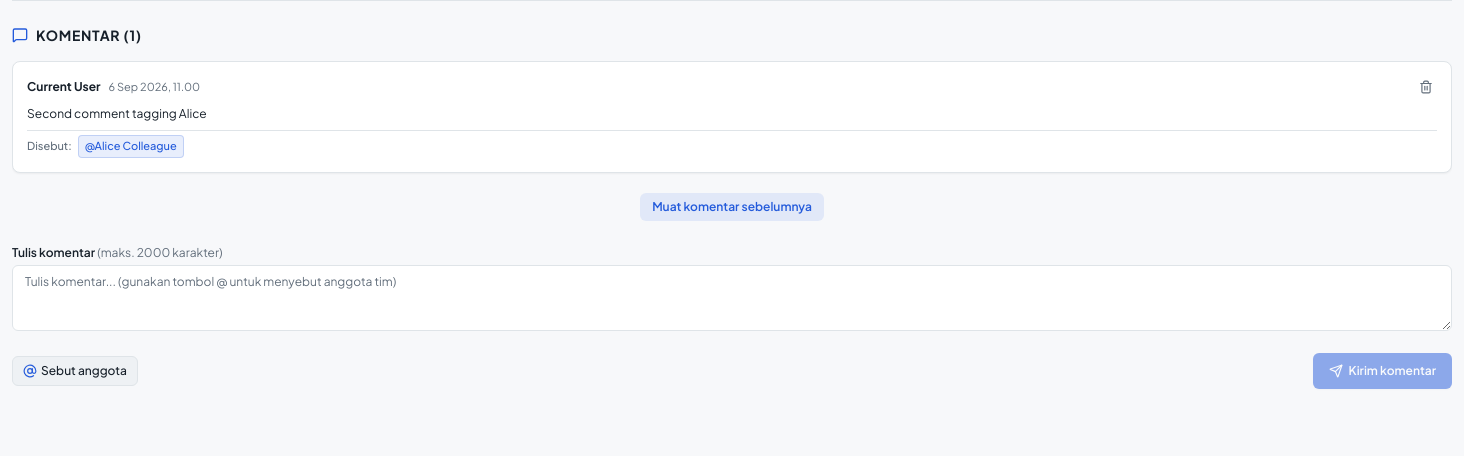
Test: Phase 10 Task 9 — Task Comments & Structured Mentions UX › supports pagination / loading earlier comments without duplicating items
The image size is (1464, 456).
Expected: the text "Second comment tagging Alice" is shown, [27, 106, 207, 121]
Click the button "Muat komentar sebelumnya".
click(732, 206)  # box [640, 192, 824, 220]
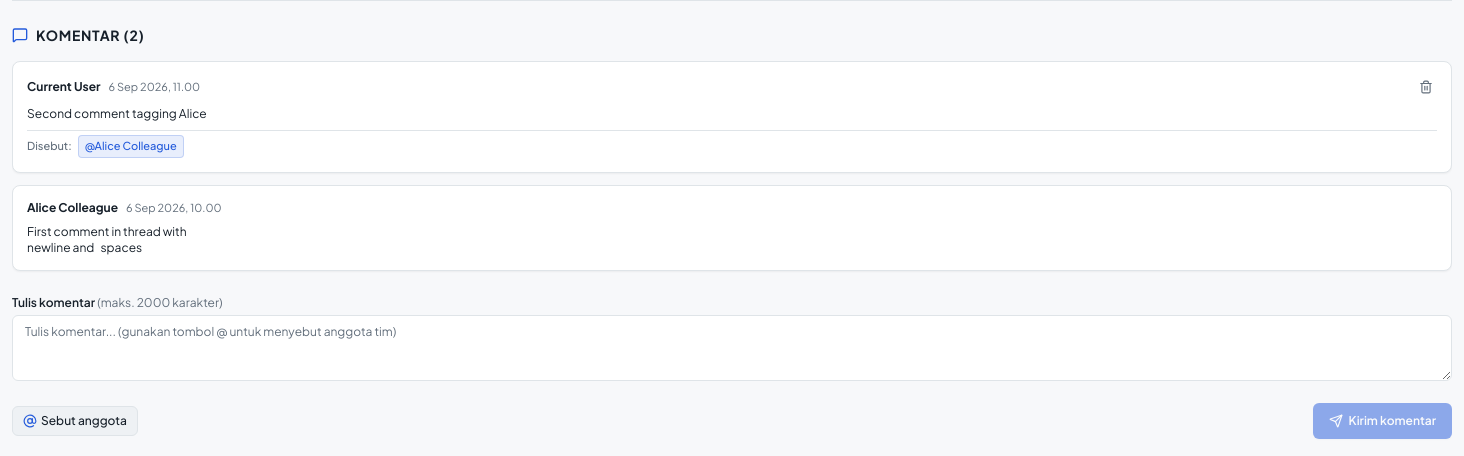
Expected: the text "Second comment tagging Alice" is shown, [27, 106, 207, 121]
Expected: the text "First comment in thread with newline and spaces" is shown, [27, 224, 187, 255]
Expected: the button "Muat komentar sebelumnya" is gone
